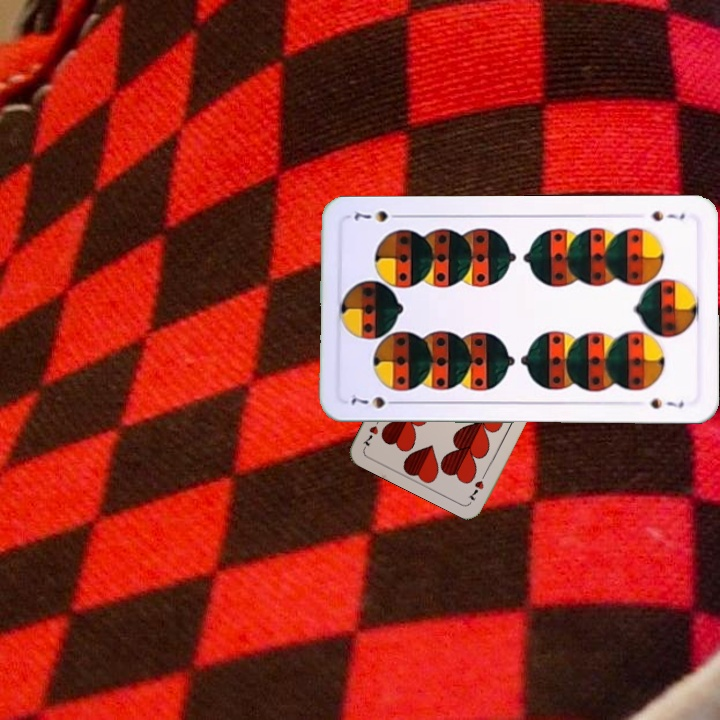H7: (464, 467, 490, 503)
S7: (345, 390, 403, 411), (647, 206, 687, 224)
